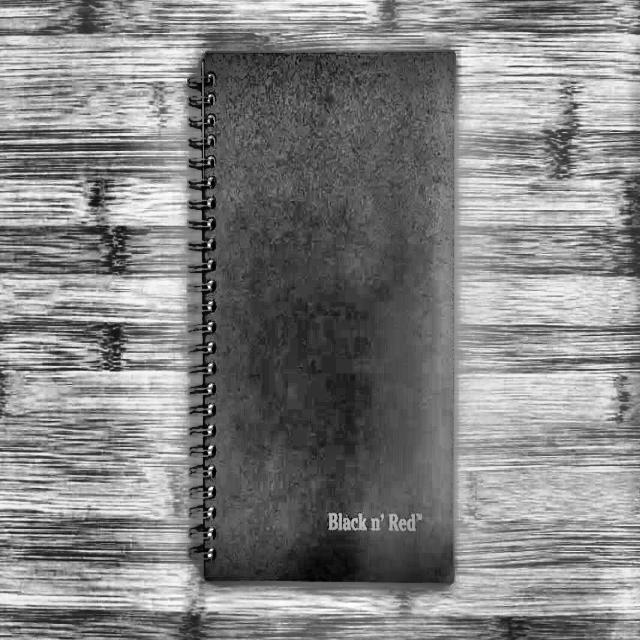Notebook: (159, 23, 475, 605)
